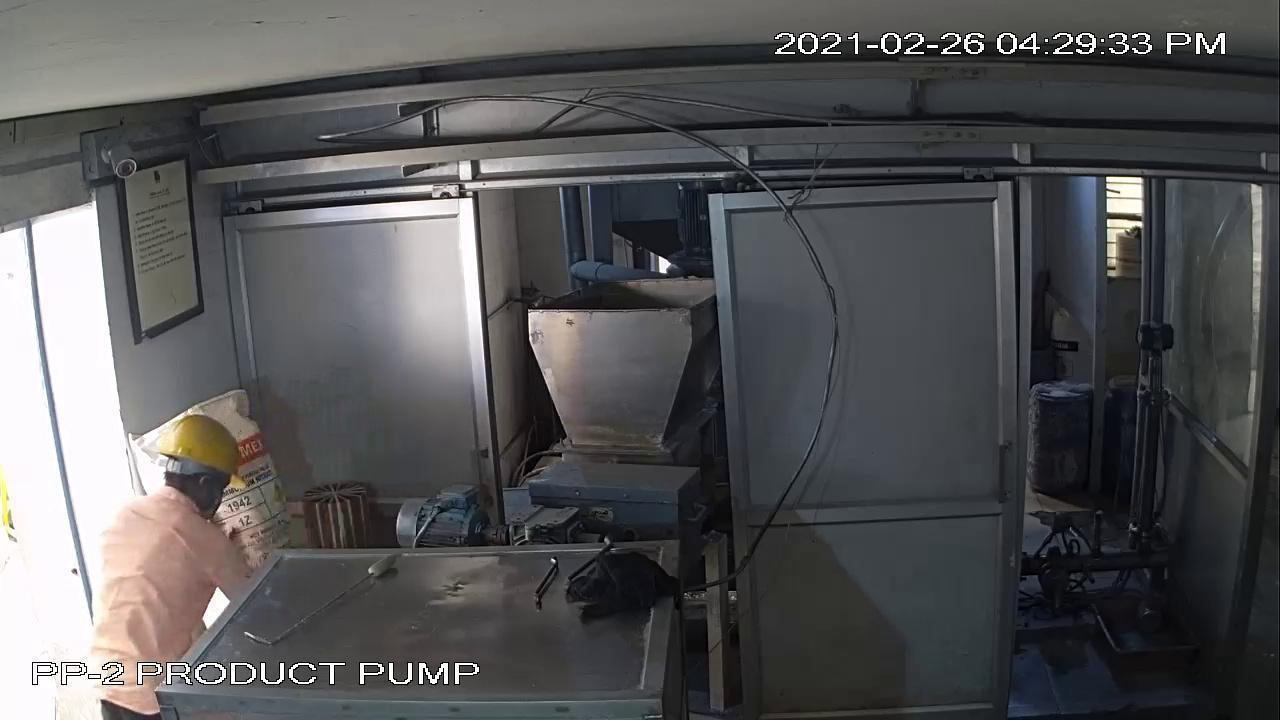helmet: (146, 410, 262, 502)
